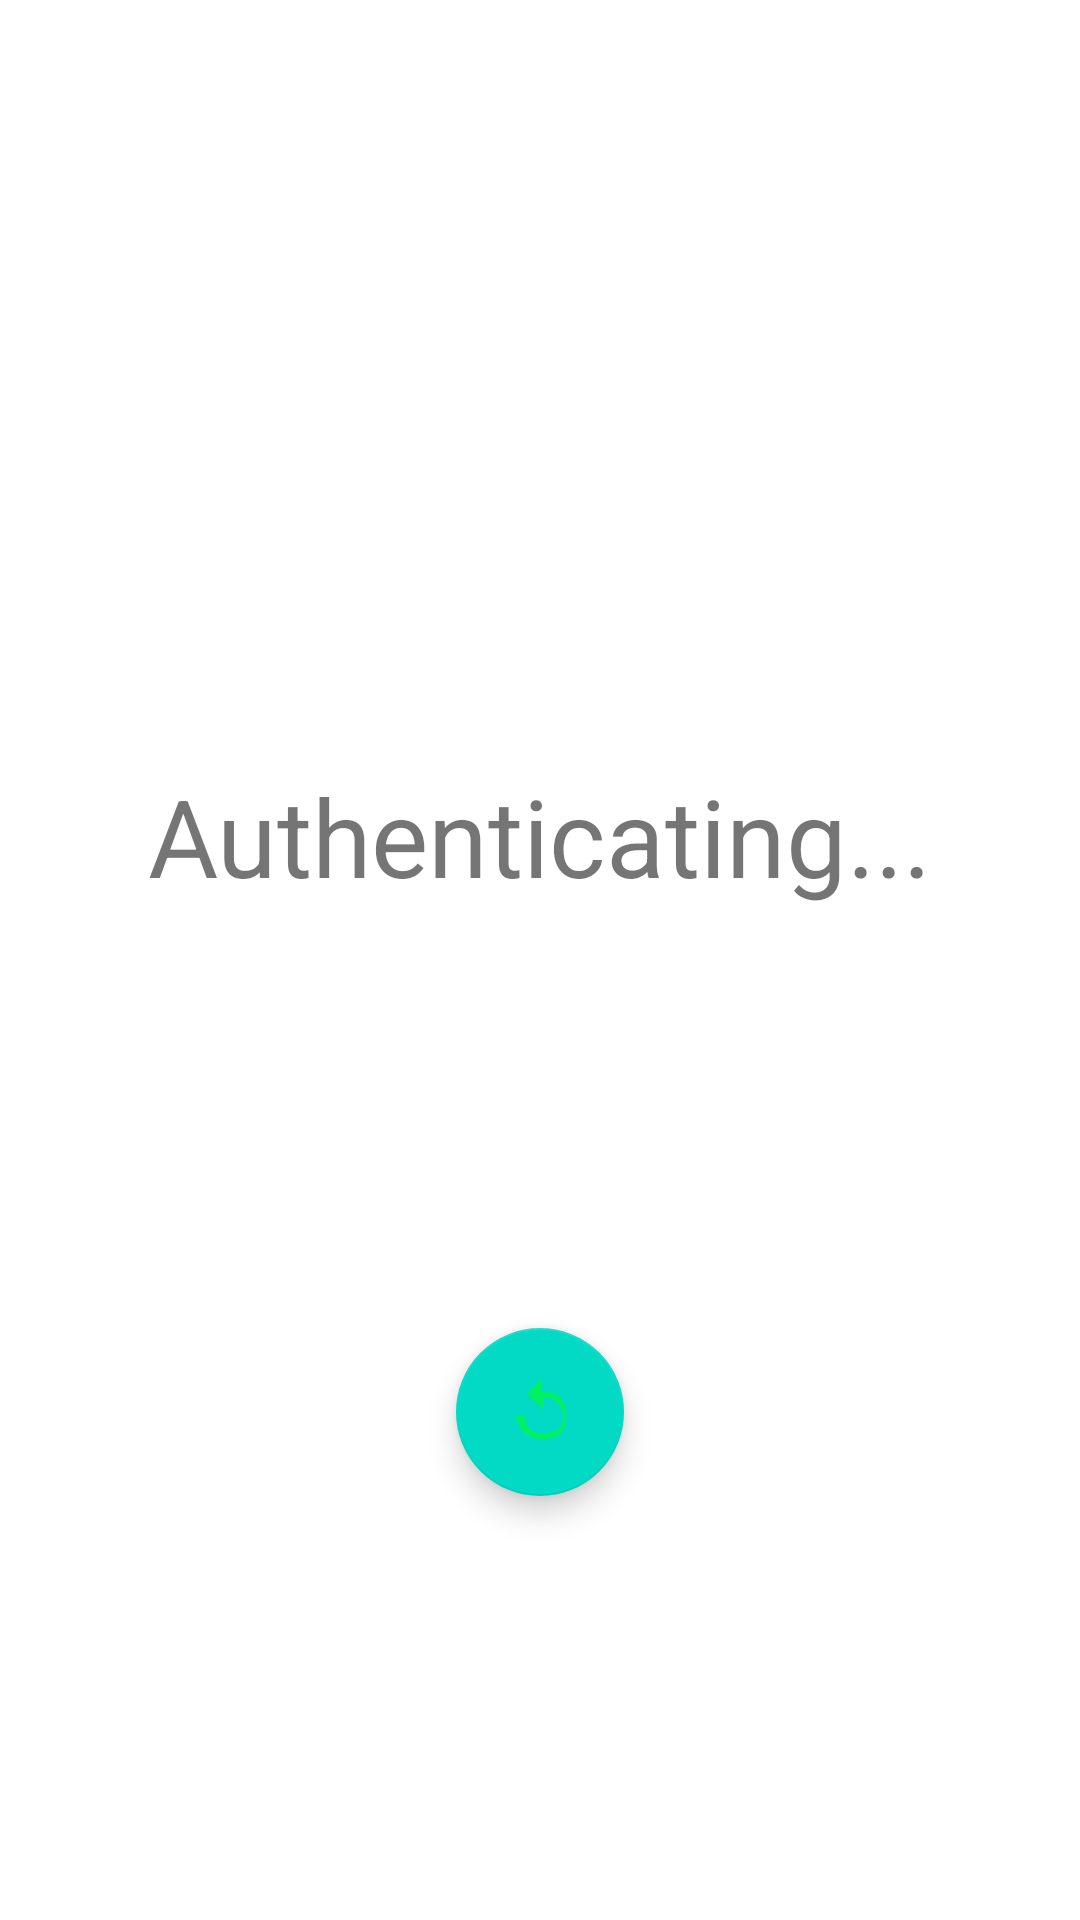

Where icons sit on this 1080 × 1920 app screen, as (x1, y1, x2, y2):
retry: (456, 1328, 624, 1496)
